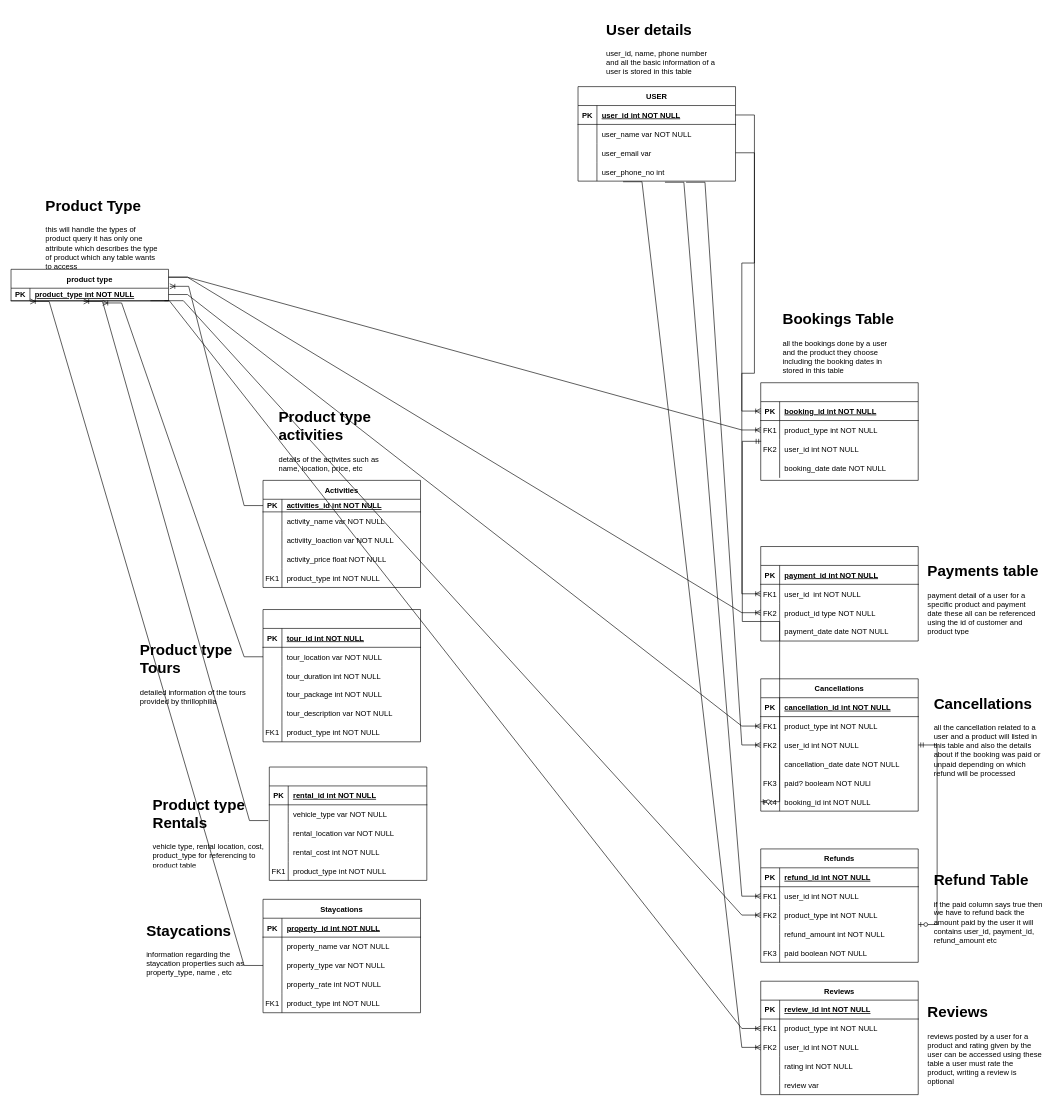
Image size: 1062x1106. Some labels were removed from this diagram. Here are the shapes that lost their labels. From the top down, the box of each, then its label:
(760, 382, 918, 480): Bookings
(760, 546, 918, 641): Payments
(262, 609, 421, 742): Tours
(269, 766, 427, 880): Rentals
